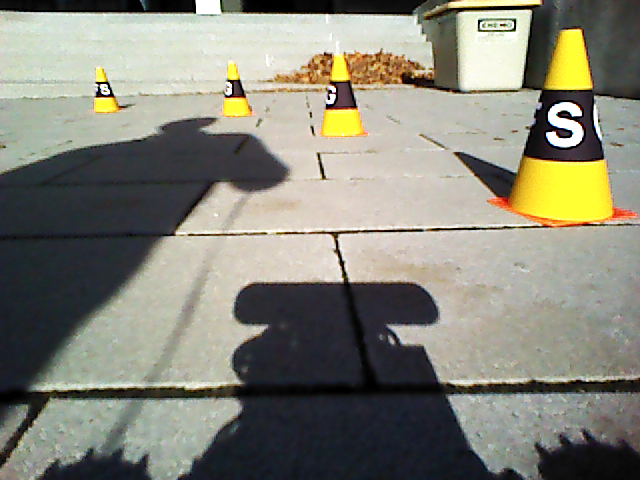yellowcone: (520, 29, 611, 219), (321, 56, 363, 135), (224, 62, 250, 116), (93, 67, 117, 111)
